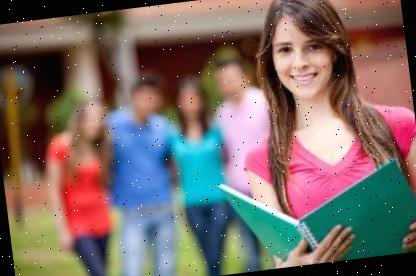person: (223, 0, 416, 271)
